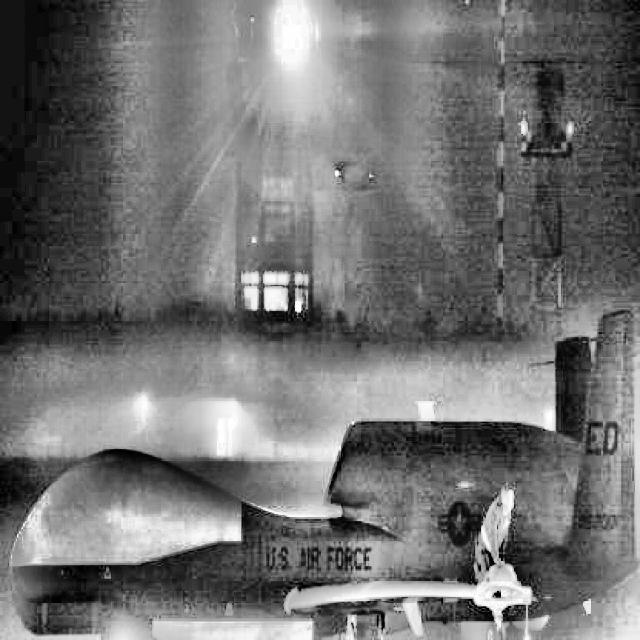RQ4: (9, 310, 640, 639)
